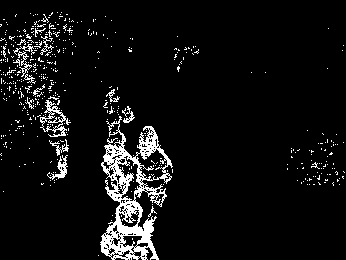person: (100, 198, 161, 260), (135, 123, 173, 213), (41, 96, 71, 183), (102, 137, 136, 213)
